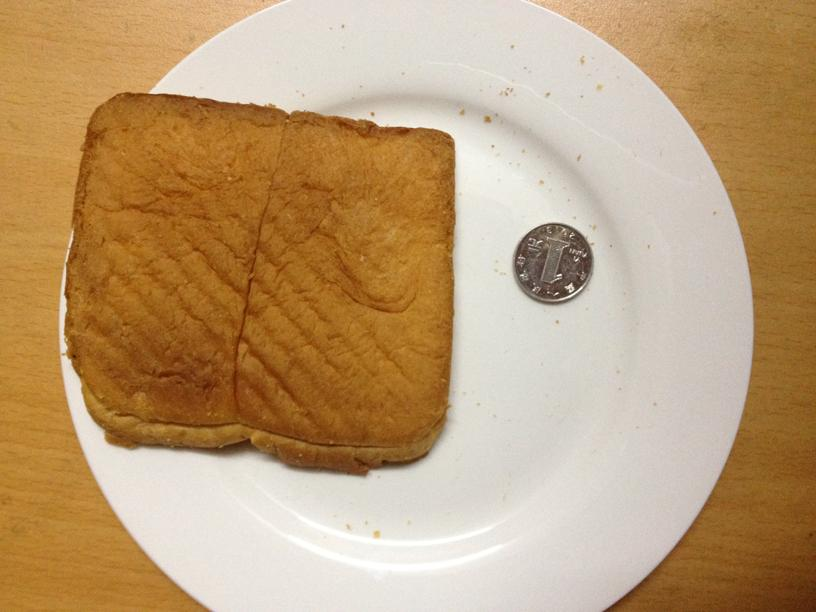bread: (73, 91, 457, 475)
coin: (510, 220, 594, 304)
